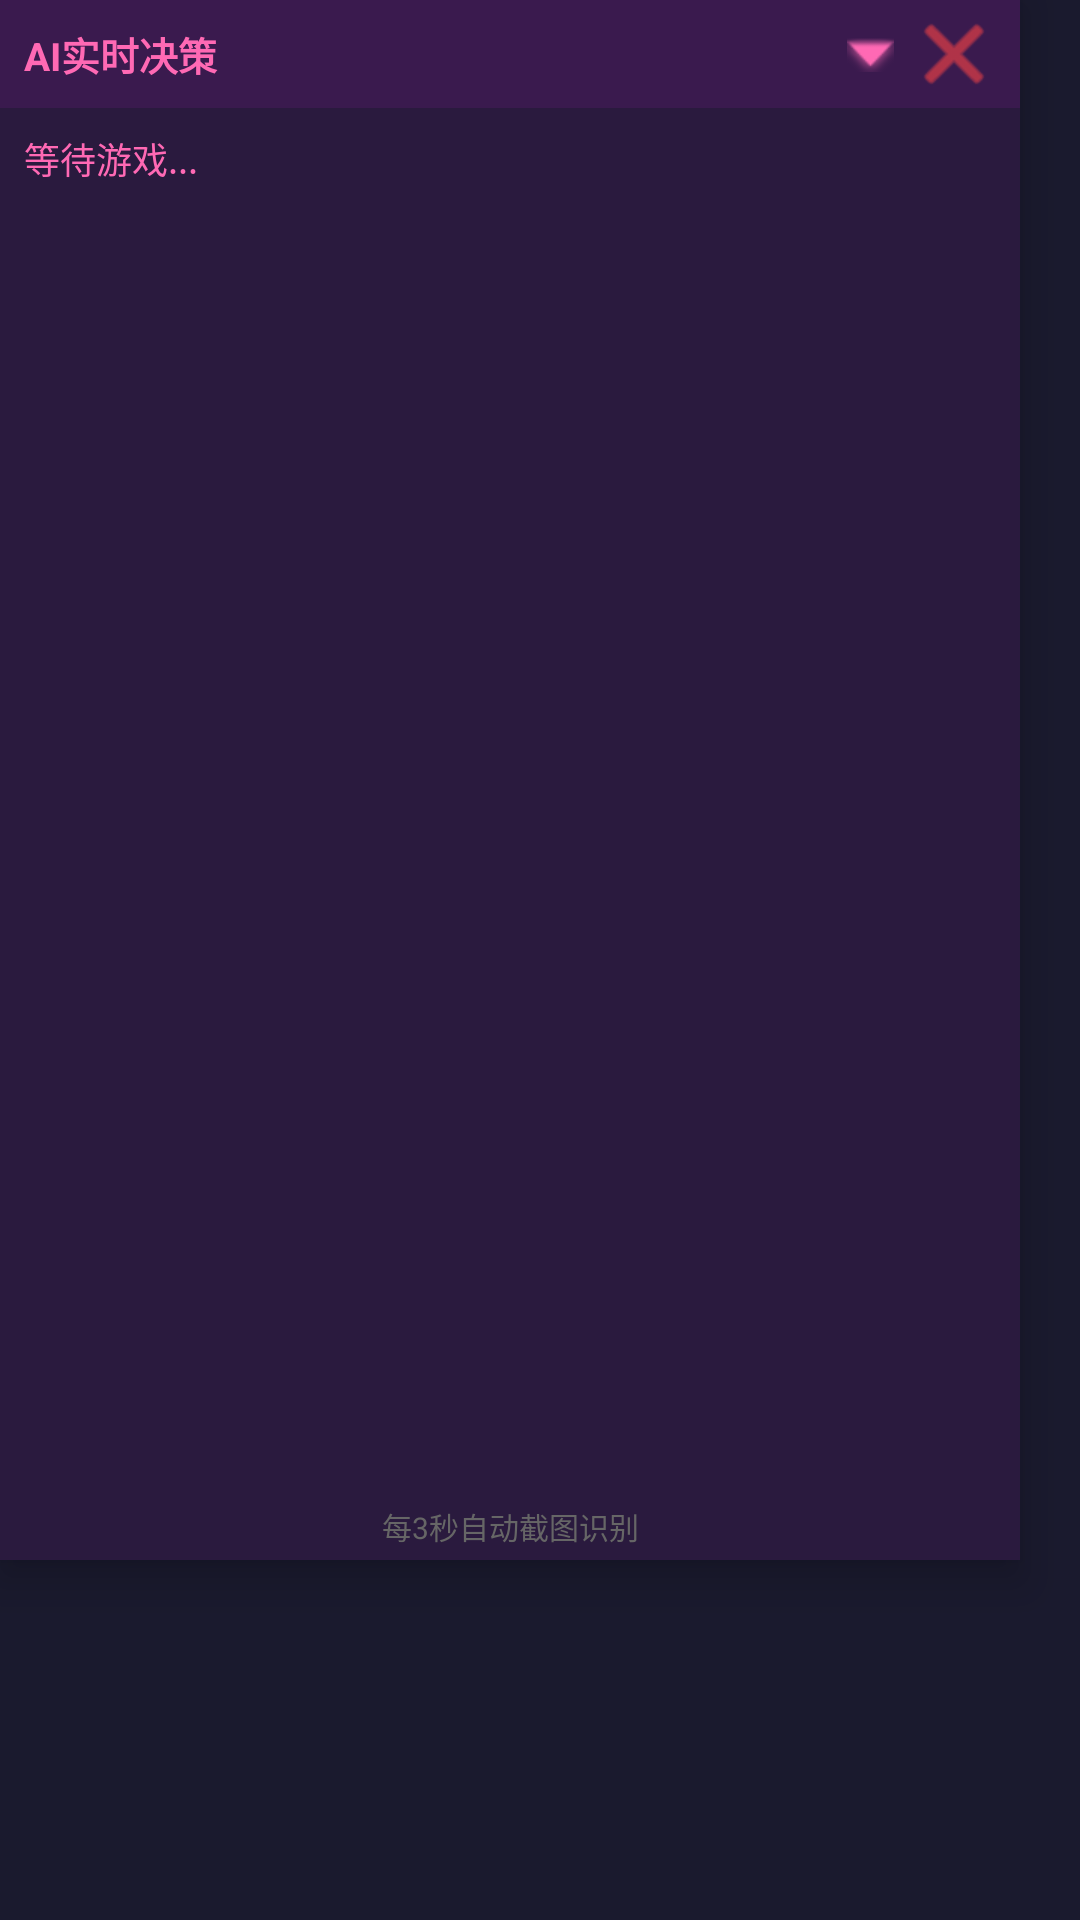

Point at icon controls on the screen. Image size 1080*1920, points as (x,y).
关闭: (954,54)
最小化: (870,54)
